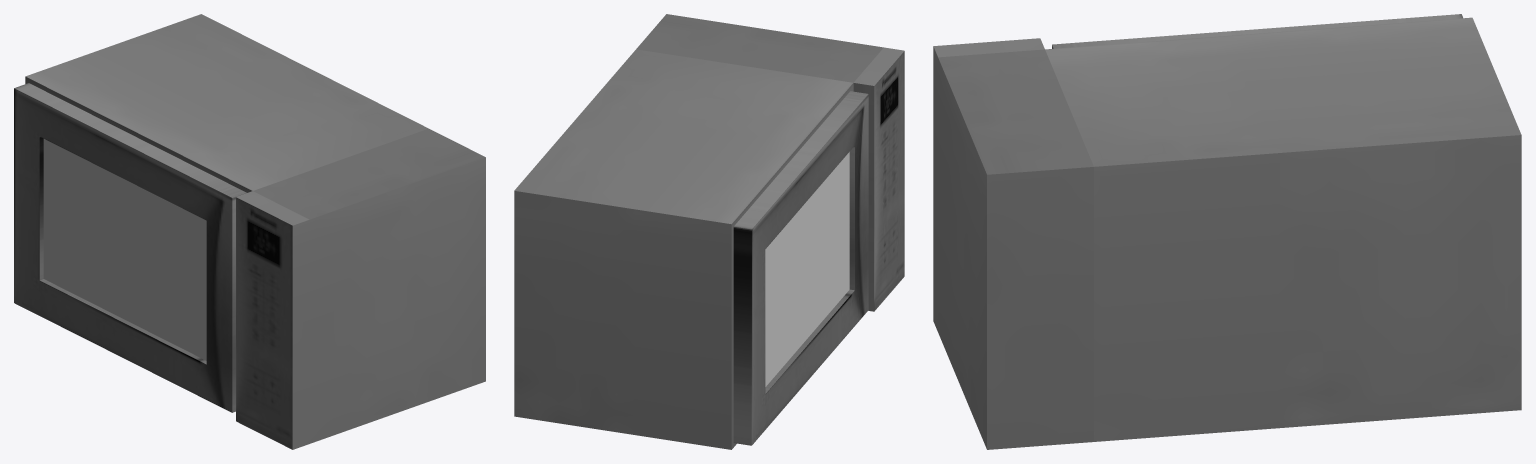
The picture shows the model from 3 angles, left to right: view 1: azimuth 30°, elevation 25°; view 2: azimuth 150°, elevation 25°; view 3: azimuth 270°, elevation 25°; orthographic projection. The views are drawn at different scales.
Parts seen in each view (by area): view 1: Microondas002_Micro001_0, Pu_M002_Micro001_0, Pu_M002_Material011_0; view 2: Microondas002_Micro001_0, Pu_M002_Micro001_0, Pu_M002_Material011_0; view 3: Microondas002_Micro001_0, Pu_M002_Micro001_0.
Boxes of the visible parts, bbox=[...] form: Microondas002_Micro001_0: bbox=[25, 14, 485, 449]; Pu_M002_Micro001_0: bbox=[14, 83, 246, 412]; Pu_M002_Material011_0: bbox=[43, 139, 206, 360]; Microondas002_Micro001_0: bbox=[514, 14, 904, 449]; Pu_M002_Micro001_0: bbox=[733, 91, 868, 445]; Pu_M002_Material011_0: bbox=[765, 152, 849, 386]; Microondas002_Micro001_0: bbox=[933, 17, 1521, 449]; Pu_M002_Micro001_0: bbox=[1052, 14, 1462, 48].
Size of the model in its own units: 0.3877 by 0.2987 by 0.5786.
2 materials, 1 textured.
